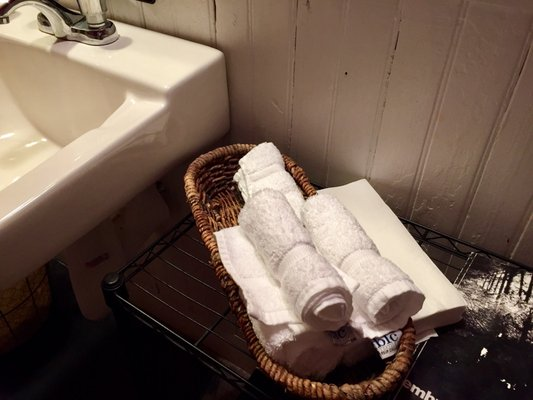salad: (0, 0, 232, 313)
